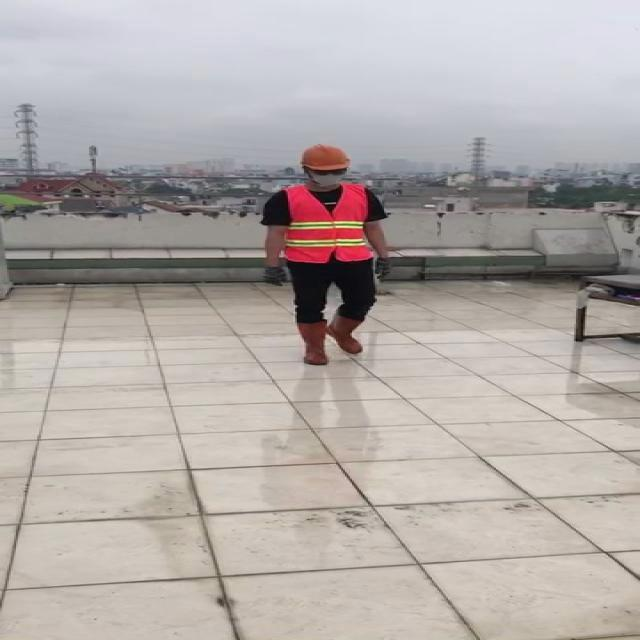Hard_hat: (295, 143, 355, 175)
Vest: (283, 182, 374, 266)
